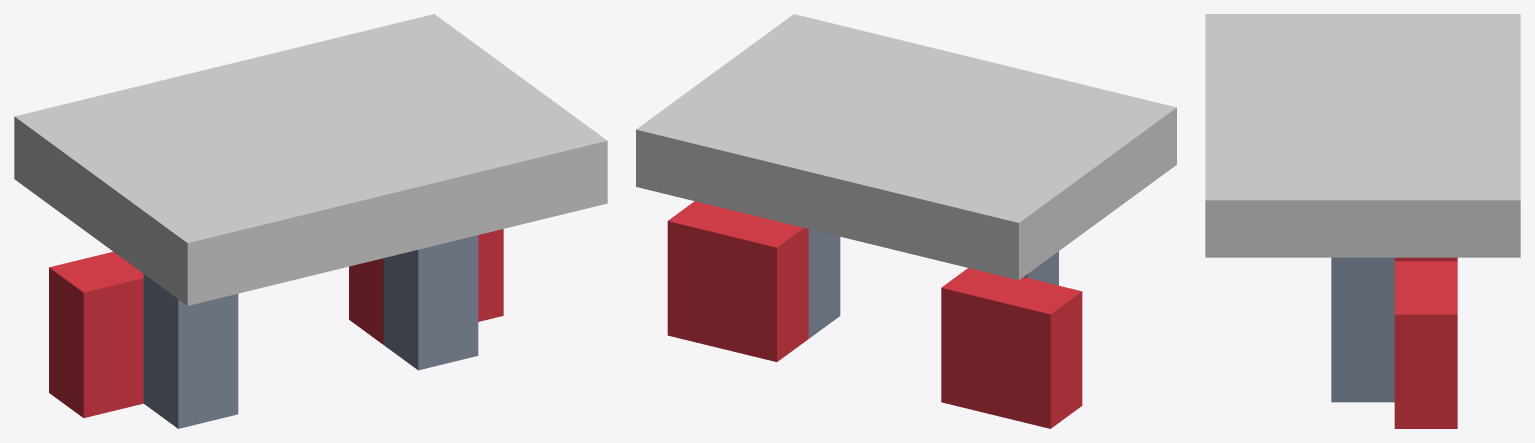
Rendered from canopy.glb.
3 views of the same model, side by side, from view 1: azimuth 30°, elevation 25°; view 2: azimuth 150°, elevation 25°; view 3: azimuth 270°, elevation 25° (orthographic). The views are drawn at different scales.
Visible parts, largest first — view 1: canopy_white, canopy_metal, canopy_red; view 2: canopy_white, canopy_red, canopy_metal; view 3: canopy_white, canopy_red, canopy_metal.
Part boxes in pixels (x1,y1,x2,y2): canopy_white: [14, 14, 607, 305]; canopy_metal: [143, 235, 478, 428]; canopy_red: [49, 229, 503, 417]; canopy_white: [636, 14, 1176, 280]; canopy_red: [667, 201, 1082, 428]; canopy_metal: [808, 229, 1058, 338]; canopy_white: [1205, 14, 1520, 257]; canopy_red: [1394, 257, 1457, 428]; canopy_metal: [1331, 257, 1394, 402].
Size of the model in its own units: 10.55 by 6.03 by 7.54.
